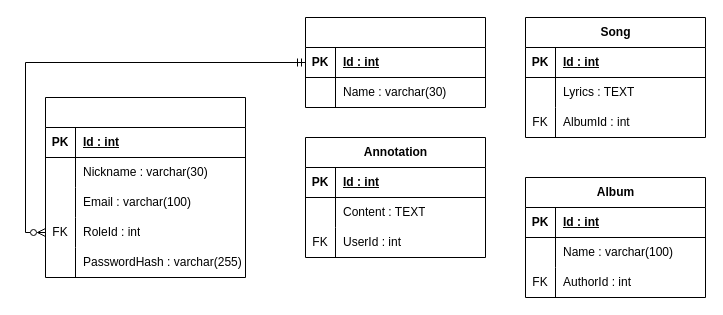
The diagram is 723 pixels wide and 315 high, and some of its shapes have lost their labels. The box of each missing label's shape, as (x1, y1, x2, y2) in pixels:
Role: (304, 16, 486, 108)
User: (44, 96, 246, 278)
